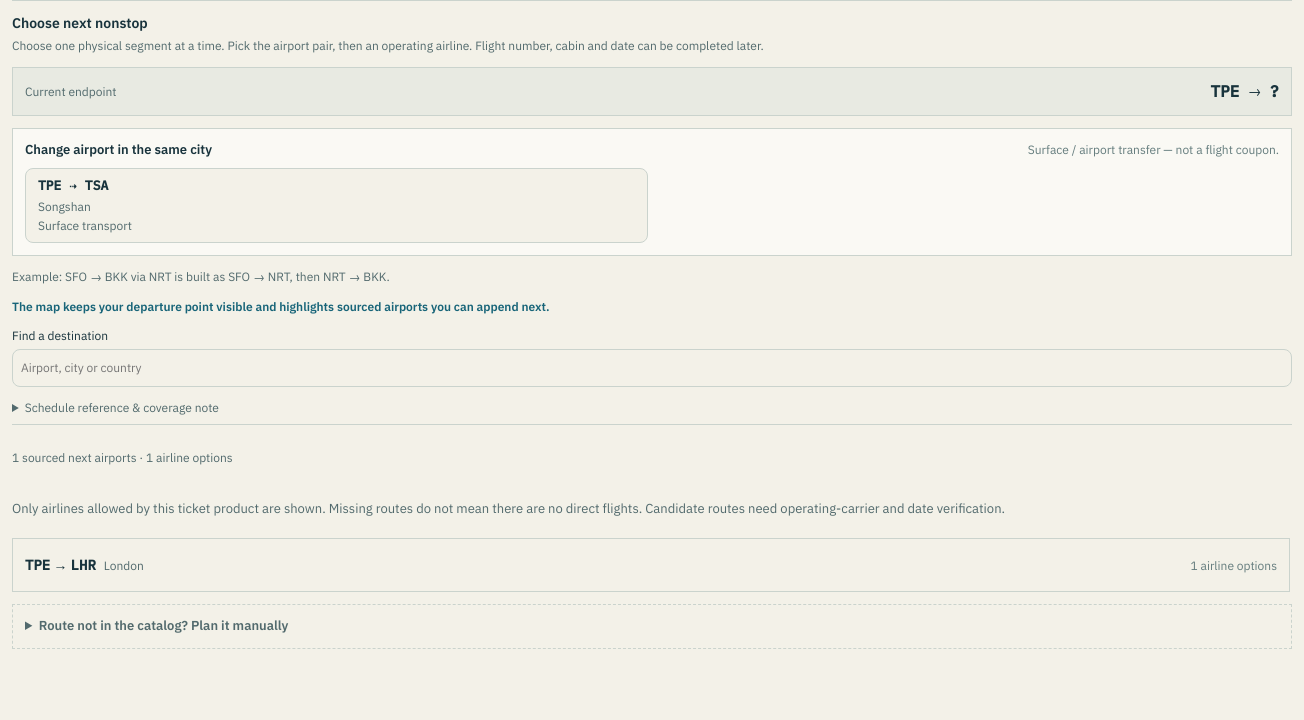
Test: DestinationsPanel · nonblocking next-leg workflow › candidate flight number is visible but cannot be persisted as a confirmed flight
This screenshot has width=1304, height=720.
Click the button "TPE → LHR London 1 airline options": (124, 565) [13,539,1289,591]
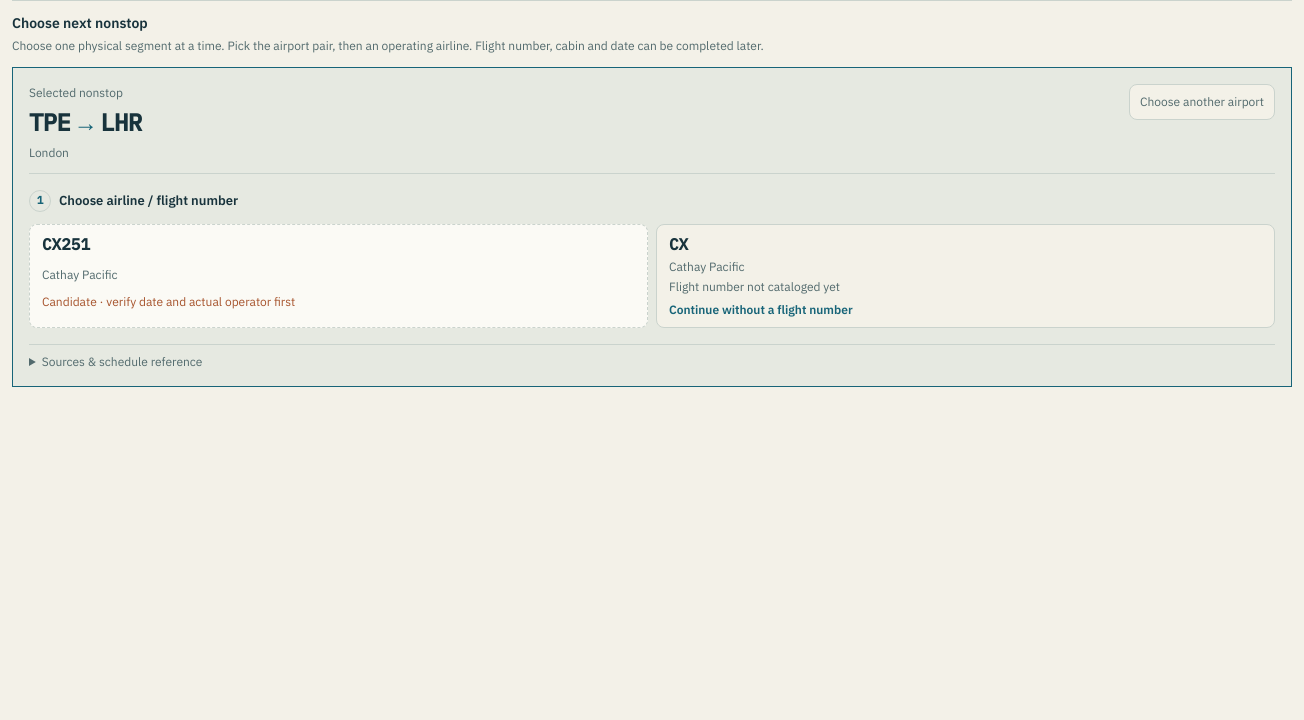
Now the element that starts with "CX251" is shown, box [42,234,90,254]
Now the button that starts with "Cathay Pacific" is shown, box [656,224,1275,328]
